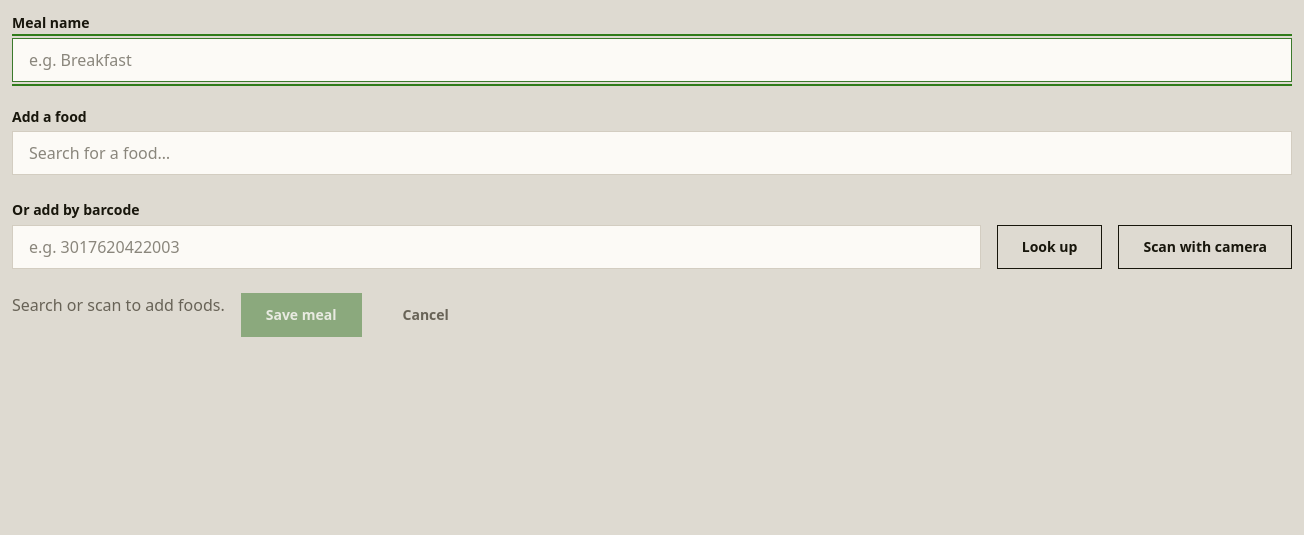
Test: MealEditor › removes a food
Type "6000" into the field labelled "Or add by barcode" at (496, 247), box [12, 225, 981, 269]
Then press Enter
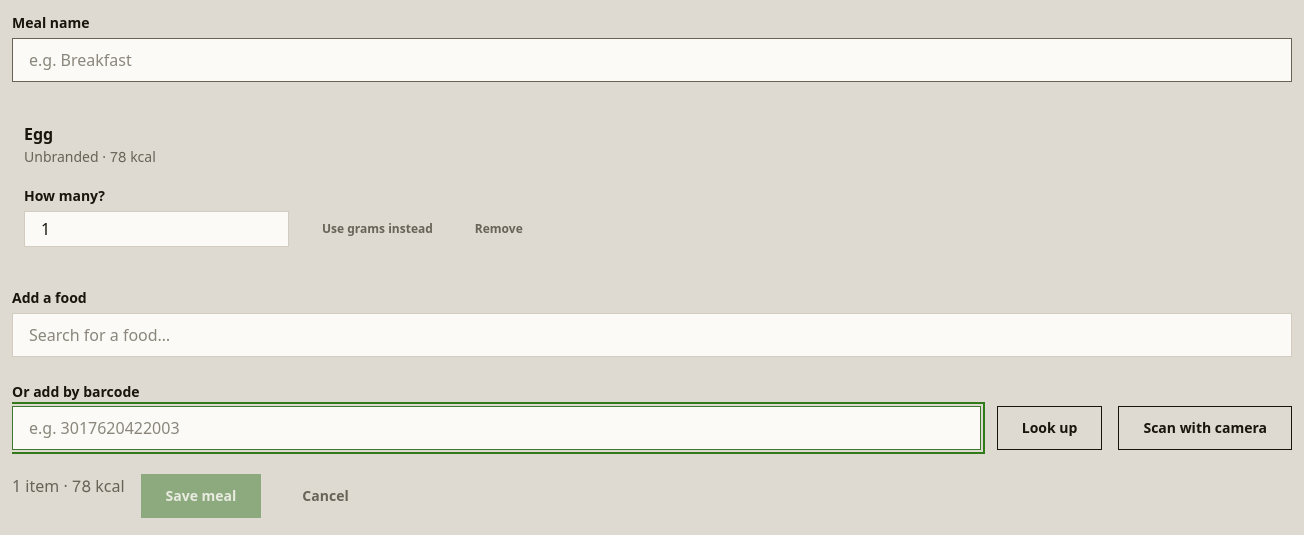
Click the button with aria-label "Remove Egg from this meal" at (499, 229), box [458, 211, 540, 247]
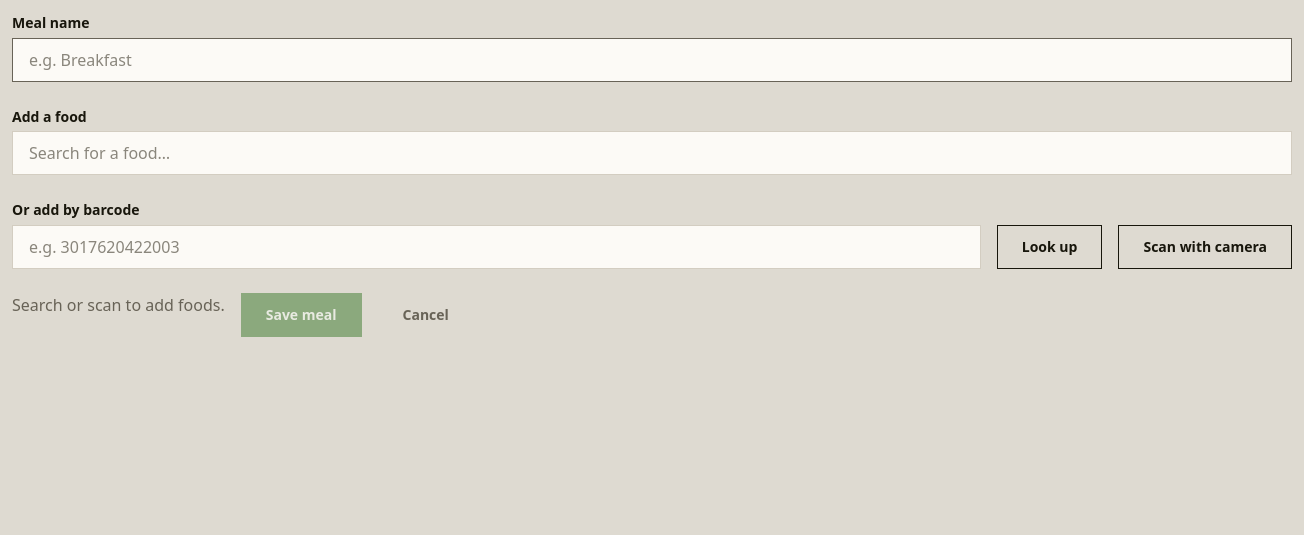
Expected: the text "Search or scan to add foods." is shown, [12, 294, 225, 316]
